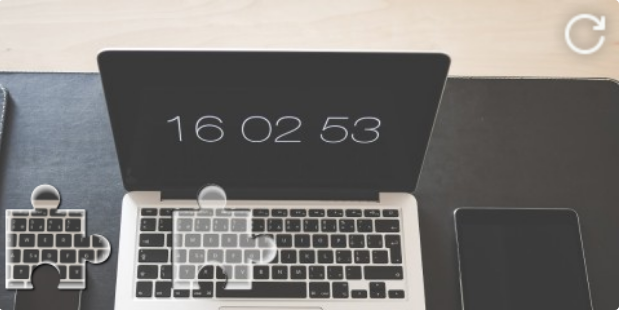target: (172, 183, 277, 289)
